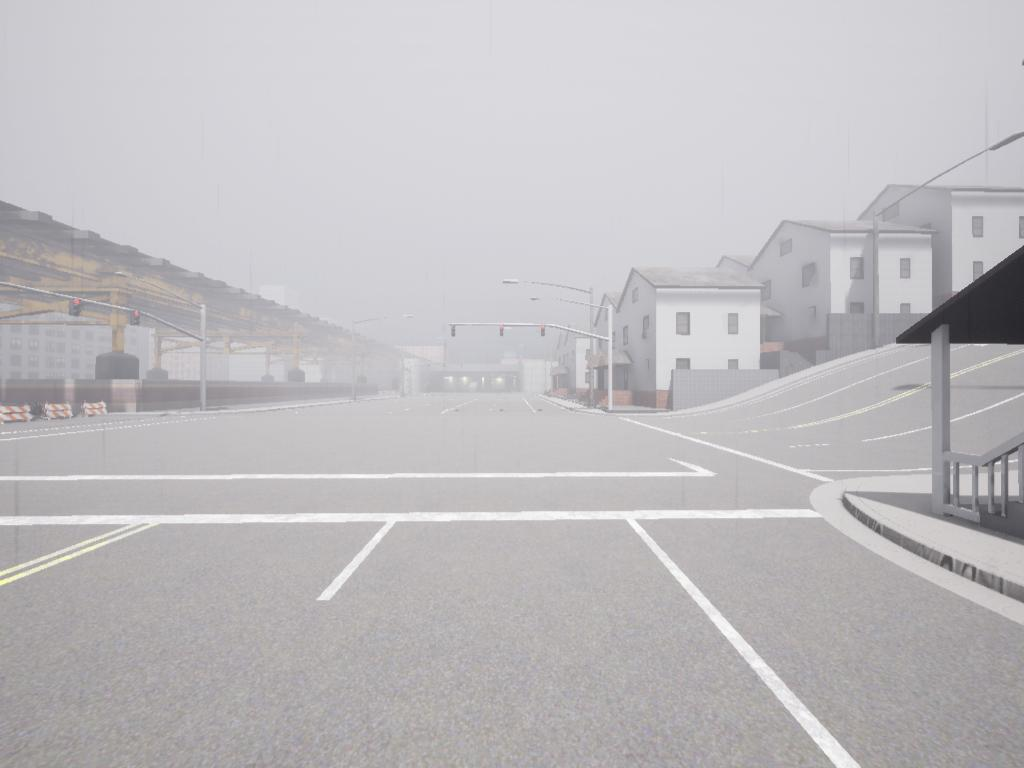traffic_light: (70, 298, 85, 319), (134, 312, 144, 326), (500, 323, 507, 340), (452, 325, 459, 340), (542, 325, 547, 340), (444, 363, 447, 370), (429, 364, 431, 370), (462, 365, 464, 369)
